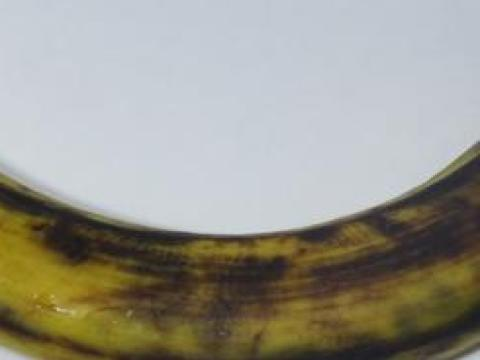overripe: (0, 107, 478, 359)
